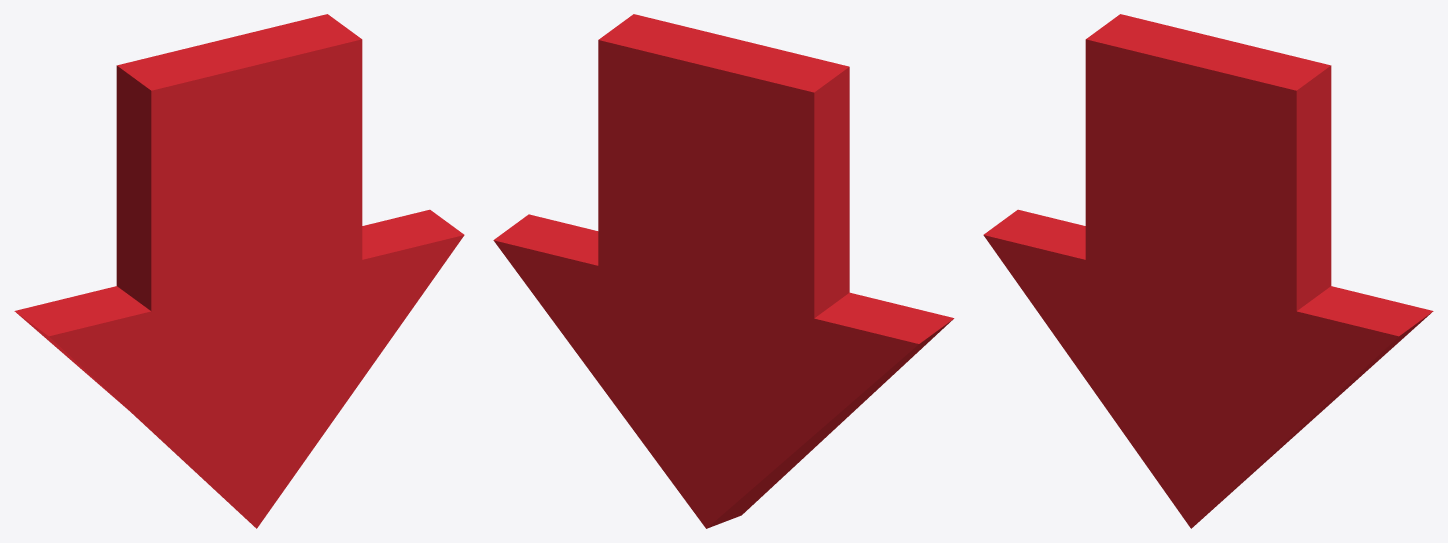
File: 3D箭頭扁.fbx
3 renders of one model, left to right at view 1: azimuth 30°, elevation 25°; view 2: azimuth 150°, elevation 25°; view 3: azimuth 330°, elevation 25°, orthographic. The views are drawn at different scales.
Visible parts, largest first — view 1: 立方體.001; view 2: 立方體.001; view 3: 立方體.001.
Boxes of the visible parts, bbox=[...] form: 立方體.001: bbox=[14, 14, 464, 528]; 立方體.001: bbox=[493, 14, 954, 528]; 立方體.001: bbox=[983, 14, 1433, 528].
Size of the model in its own units: 86.78 by 92.53 by 12.51.
